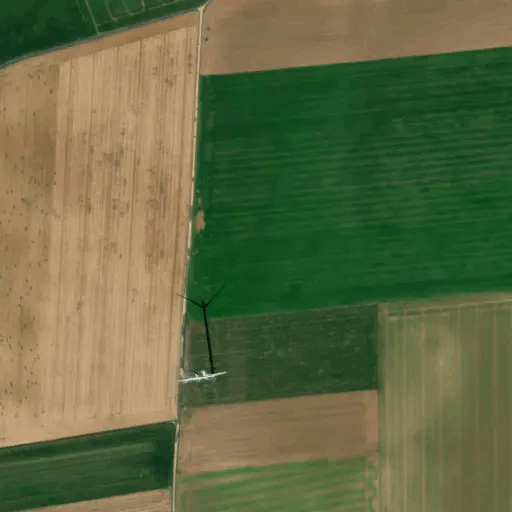wt: (172, 277, 237, 396)
